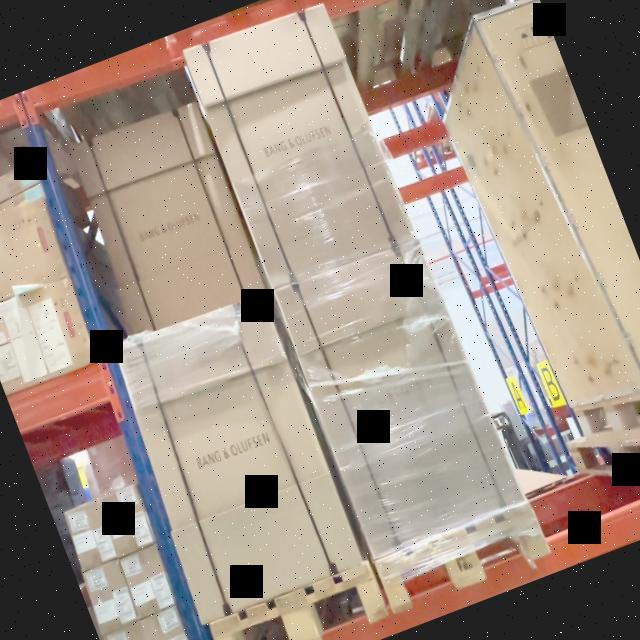box: (118, 298, 360, 608), (279, 243, 519, 551), (186, 0, 414, 296), (74, 100, 266, 334)
